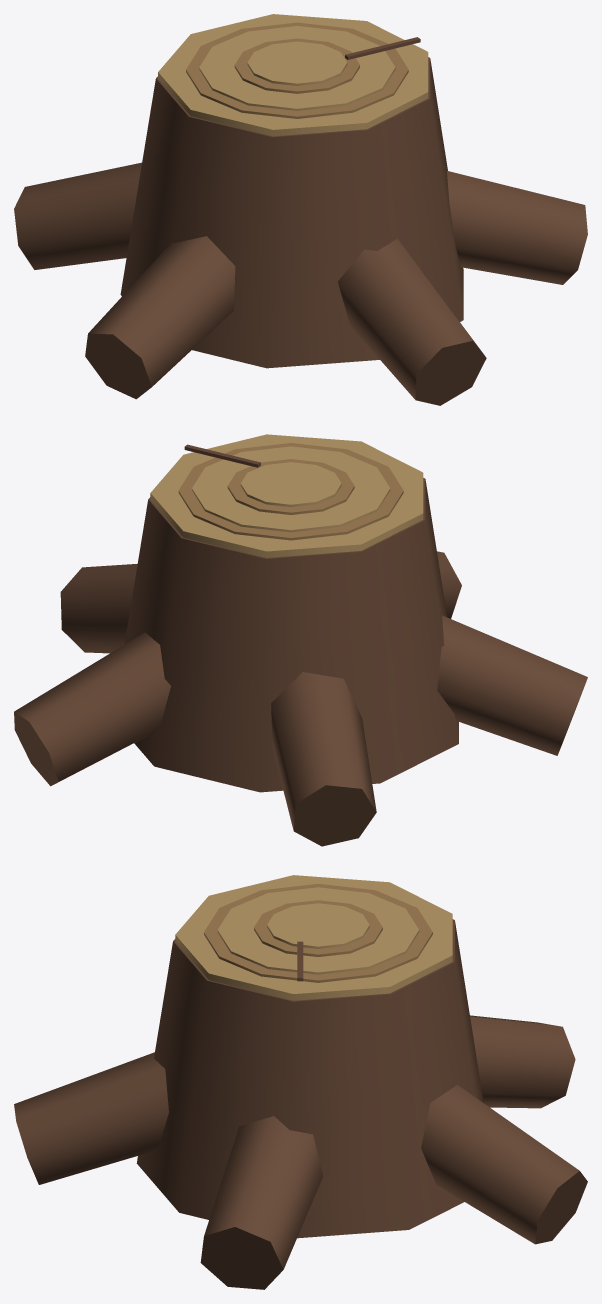
Rendered from Nature_Tree_Stump.glb.
3 renders of one model, top to bottom at view 1: azimuth 30°, elevation 25°; view 2: azimuth 150°, elevation 25°; view 3: azimuth 270°, elevation 25°, orthographic. The views are drawn at different scales.
Visible parts, largest first — view 1: _MeshInstance3D_4435, _MeshInstance3D_4438, _MeshInstance3D_4437, _MeshInstance3D_4436, _MeshInstance3D_4439, _MeshInstance3D_4441, _MeshInstance3D_4443, _MeshInstance3D_4442, _MeshInstance3D_4445, _MeshInstance3D_4444; view 2: _MeshInstance3D_4435, _MeshInstance3D_4439, _MeshInstance3D_4440, _MeshInstance3D_4438, _MeshInstance3D_4441, _MeshInstance3D_4443, _MeshInstance3D_4436, _MeshInstance3D_4442, _MeshInstance3D_4445, _MeshInstance3D_4444, _MeshInstance3D_4437; view 3: _MeshInstance3D_4435, _MeshInstance3D_4440, _MeshInstance3D_4436, _MeshInstance3D_4437, _MeshInstance3D_4441, _MeshInstance3D_4439, _MeshInstance3D_4443, _MeshInstance3D_4442, _MeshInstance3D_4445, _MeshInstance3D_4444.
Part boxes in pixels (x1=…): _MeshInstance3D_4435: x1=120, y1=57, x2=463, y2=368; _MeshInstance3D_4438: x1=85, y1=236, x2=235, y2=399; _MeshInstance3D_4437: x1=338, y1=239, x2=486, y2=405; _MeshInstance3D_4436: x1=447, y1=171, x2=587, y2=284; _MeshInstance3D_4439: x1=14, y1=162, x2=141, y2=269; _MeshInstance3D_4441: x1=158, y1=14, x2=428, y2=136; _MeshInstance3D_4443: x1=199, y1=26, x2=395, y2=110; _MeshInstance3D_4442: x1=186, y1=22, x2=408, y2=118; _MeshInstance3D_4445: x1=247, y1=41, x2=347, y2=85; _MeshInstance3D_4444: x1=234, y1=38, x2=359, y2=93; _MeshInstance3D_4435: x1=124, y1=478, x2=458, y2=792; _MeshInstance3D_4439: x1=271, y1=672, x2=376, y2=846; _MeshInstance3D_4440: x1=14, y1=632, x2=170, y2=786; _MeshInstance3D_4438: x1=437, y1=615, x2=587, y2=755; _MeshInstance3D_4441: x1=150, y1=434, x2=423, y2=557; _MeshInstance3D_4443: x1=192, y1=446, x2=390, y2=532; _MeshInstance3D_4436: x1=60, y1=564, x2=137, y2=653; _MeshInstance3D_4442: x1=178, y1=443, x2=403, y2=540; _MeshInstance3D_4445: x1=240, y1=462, x2=341, y2=507; _MeshInstance3D_4444: x1=227, y1=459, x2=354, y2=514; _MeshInstance3D_4437: x1=437, y1=551, x2=461, y2=618; _MeshInstance3D_4435: x1=136, y1=919, x2=483, y2=1238; _MeshInstance3D_4440: x1=421, y1=1085, x2=587, y2=1244; _MeshInstance3D_4436: x1=200, y1=1116, x2=322, y2=1289; _MeshInstance3D_4437: x1=14, y1=1052, x2=168, y2=1184; _MeshInstance3D_4441: x1=175, y1=875, x2=452, y2=1000; _MeshInstance3D_4439: x1=470, y1=1015, x2=575, y2=1108; _MeshInstance3D_4443: x1=217, y1=887, x2=419, y2=974; _MeshInstance3D_4442: x1=204, y1=883, x2=432, y2=982; _MeshInstance3D_4445: x1=267, y1=903, x2=369, y2=948; _MeshInstance3D_4444: x1=254, y1=900, x2=382, y2=956.
Size of the model in its own units: 1.3 by 0.6254 by 1.26.
